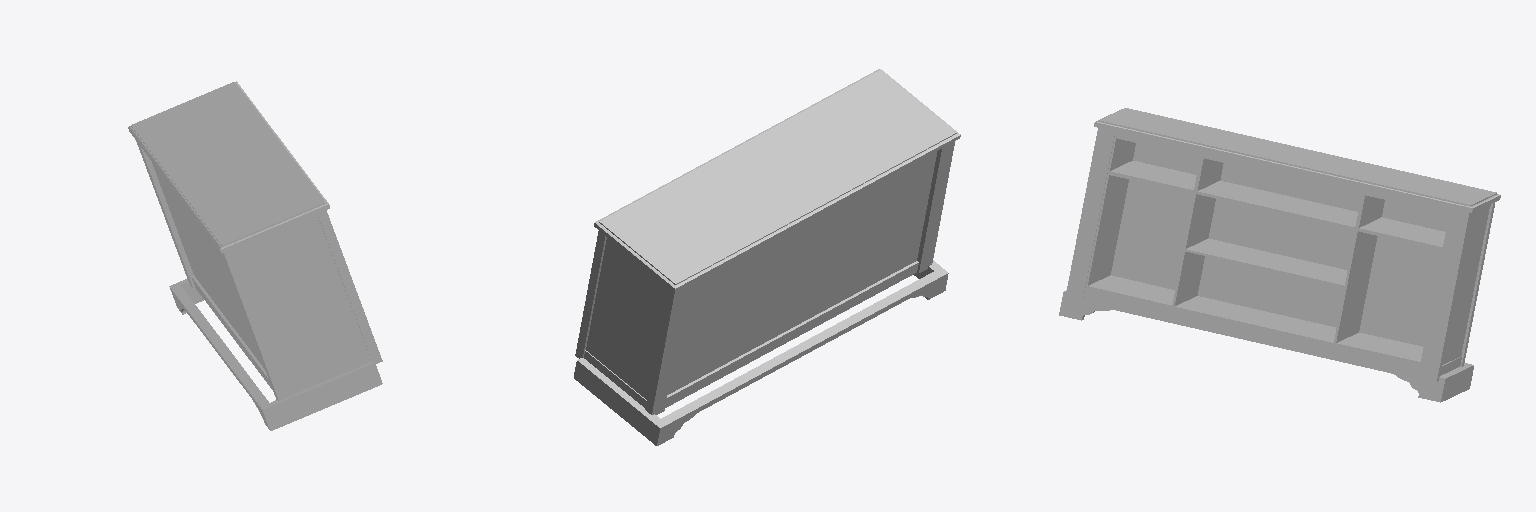
The model's file is dresser1.obj.
3 renders of one model, left to right at view 1: azimuth 30°, elevation 25°; view 2: azimuth 150°, elevation 25°; view 3: azimuth 270°, elevation 25°, orthographic.
Visible parts, largest first — view 1: Base_low.001__0, Bottom_low.001__0; view 2: Base_low.001__0, Bottom_low.001__0; view 3: Base_low.001__0, Bottom_low.001__0.
Boxes of the visible parts, box(x1,y1,x2,y2) form: Base_low.001__0: box(128, 81, 382, 400); Bottom_low.001__0: box(169, 279, 382, 430); Base_low.001__0: box(575, 69, 960, 414); Bottom_low.001__0: box(574, 260, 948, 445); Base_low.001__0: box(1066, 108, 1500, 381); Bottom_low.001__0: box(1059, 290, 1473, 402).
Size of the model in its own units: 7.26 by 7.58 by 12.15.